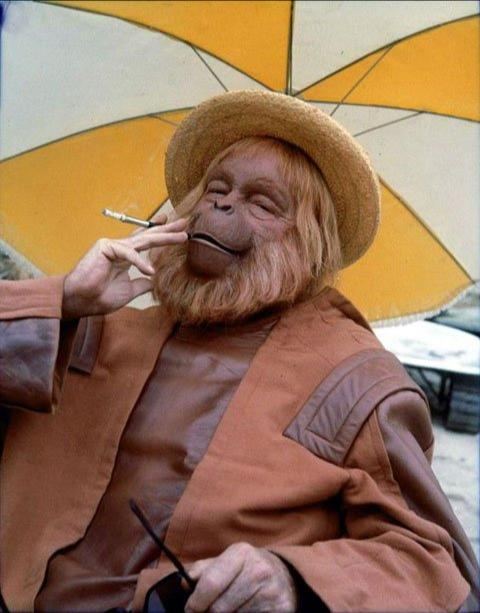Cigarette: (103, 207, 154, 228)
